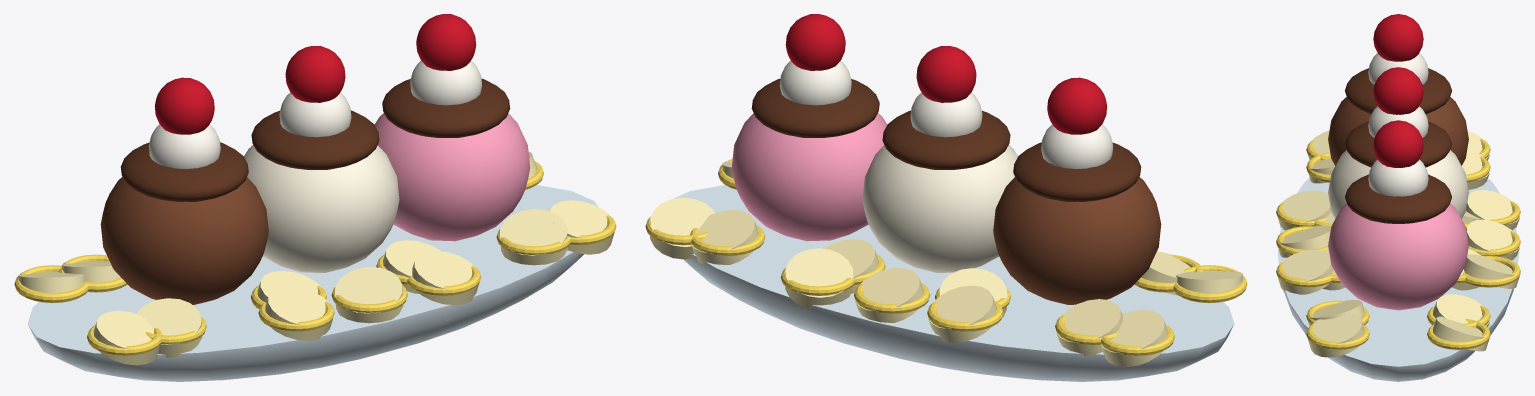
File: Ice_L7.fbx
3 renders of one model, left to right at view 1: azimuth 30°, elevation 25°; view 2: azimuth 150°, elevation 25°; view 3: azimuth 270°, elevation 25°, orthographic. The views are drawn at different scales.
Visible parts, largest first — view 1: I7_Scoop (×3), I7_Dish, I7_BananaSlice (×11), I7_Sauce (×3), I7_Cherry (×3), I7_Whip (×3), I7_BananaRim (×9); view 2: I7_Scoop (×3), I7_Dish, I7_BananaSlice (×11), I7_Sauce (×3), I7_Cherry (×3), I7_Whip (×3), I7_BananaRim (×9); view 3: I7_Scoop (×3), I7_BananaSlice (×15), I7_Dish, I7_Sauce (×3), I7_Cherry (×3), I7_BananaRim (×12), I7_Whip (×3).
Boxes of the visible parts, x1,y1,x2,y2 form: I7_Scoop (×3): (100, 113, 530, 304); I7_Dish: (27, 185, 597, 381); I7_BananaSlice (×11): (18, 200, 613, 365); I7_Sauce (×3): (120, 78, 510, 201); I7_Cherry (×3): (154, 14, 476, 134); I7_Whip (×3): (148, 60, 482, 169); I7_BananaRim (×9): (14, 215, 616, 356); I7_Scoop (×3): (731, 113, 1161, 304); I7_Dish: (673, 185, 1234, 381); I7_BananaSlice (×11): (650, 197, 1242, 366); I7_Sauce (×3): (751, 78, 1141, 201); I7_Cherry (×3): (785, 14, 1107, 134); I7_Whip (×3): (779, 60, 1113, 169); I7_BananaRim (×9): (645, 217, 1247, 355); I7_Scoop (×3): (1328, 97, 1468, 310); I7_BananaSlice (×15): (1278, 130, 1520, 357); I7_Dish: (1277, 178, 1519, 381); I7_Sauce (×3): (1345, 68, 1451, 223); I7_Cherry (×3): (1373, 14, 1423, 167); I7_BananaRim (×12): (1276, 152, 1520, 349); I7_Whip (×3): (1368, 53, 1428, 196).
Bounding box in the file's own units: 32 × 16.1 × 14.6.
